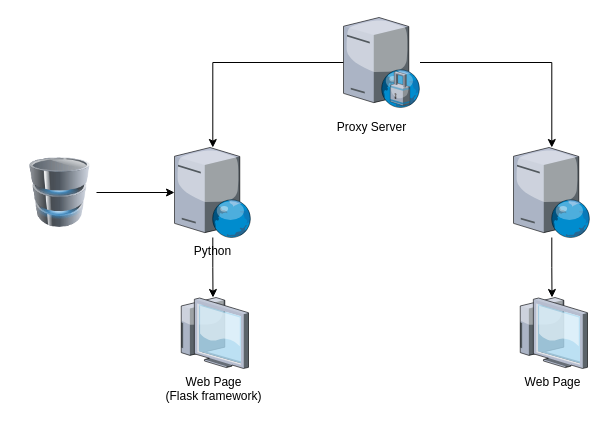
Some shapes in this 607 by 421 pixel diagram are drawn without their labels. The shapes that lost their labels are listed below. From the top down, each one's box as (x1, y1, x2, y2) in pixels, then its label:
(23, 157, 96, 227): Redis Database
(513, 147, 590, 237): Nginx
